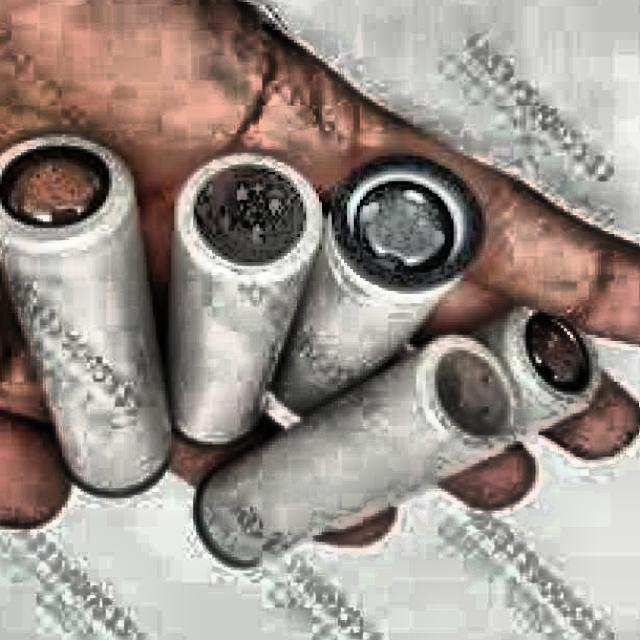Non-Valuable Waste - Batteries: (197, 310, 598, 567), (0, 137, 168, 498), (275, 153, 482, 413), (171, 150, 321, 444)
